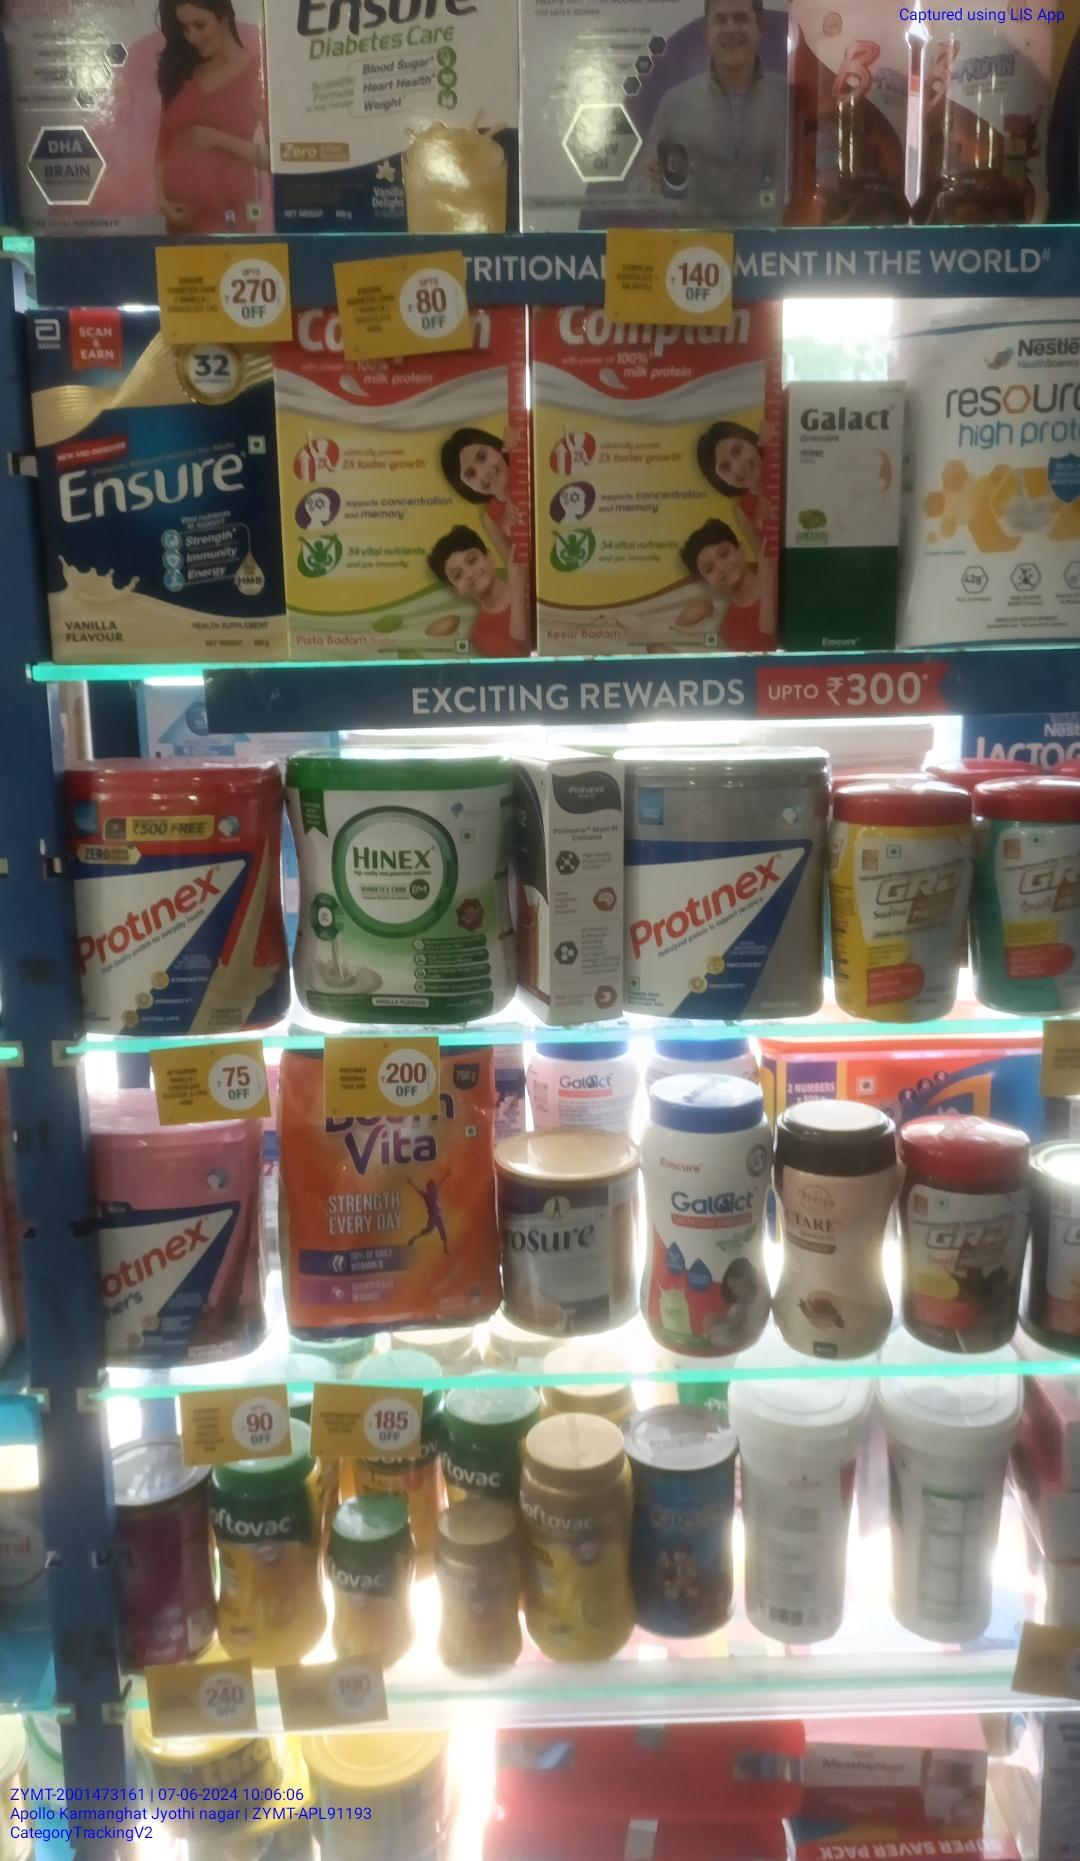COMPLAN_KESAR_BADAM_500_GMS_PACK: (532, 299, 777, 649)
COMPLAN_PISTA_BADAM_500_GMS_PACK: (284, 311, 526, 654)
ENSURE_VANILLA_400_G_PACK: (41, 312, 274, 659)
PROTINEX_ORIGINAL_400_G_JAR: (625, 752, 833, 1024)
PROTINEX_VANILLA_400_G_JAR: (73, 758, 276, 1032)
